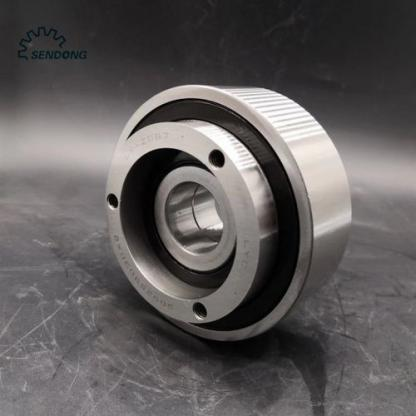FOD: (100, 78, 359, 354)
